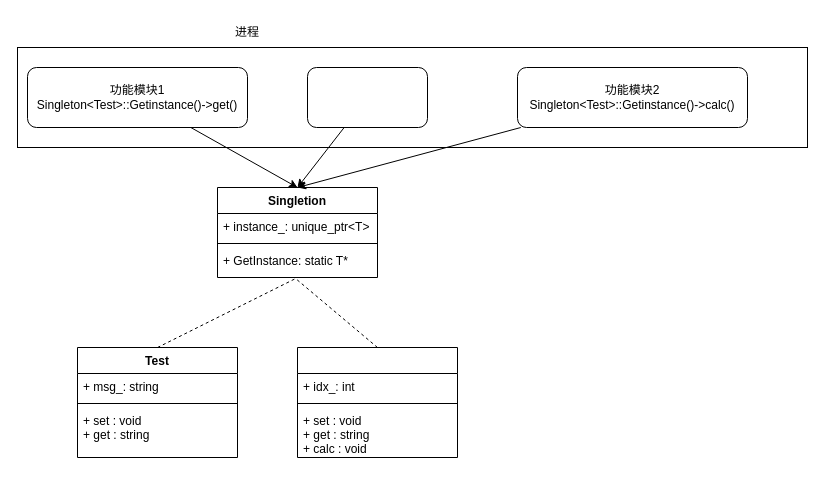
Image size: 825x477. Some labels were removed from this diagram. The shapes that lost their labels are listed below. From the top down, each one's box as (x1, y1, x2, y2) in pixels, then its label:
(306, 66, 428, 128): 功能模块3
(296, 346, 458, 458): Demo
